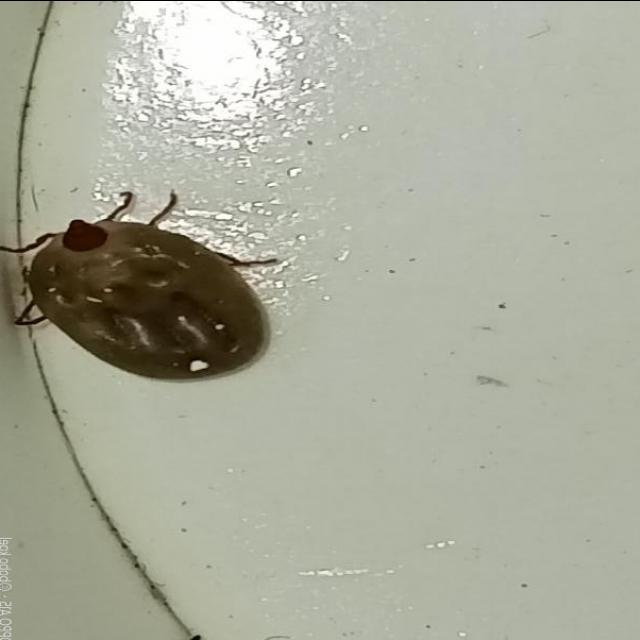Rhipicephalus Sanguineus-F-Fed: (0, 190, 279, 382)
